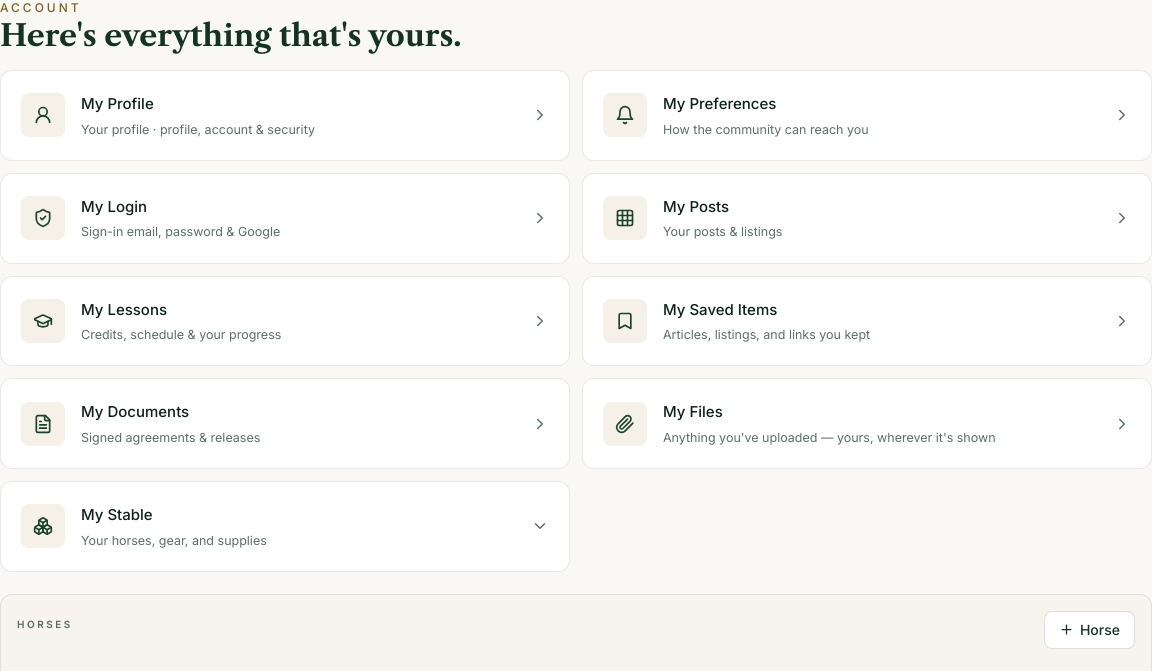
it: My Stable "+ Horse" wiring › shows "+ Horse" next to the Horses section and opens the horse-intake modal
Click the button "Horse".
click(1089, 630)  # box [1044,611,1135,649]
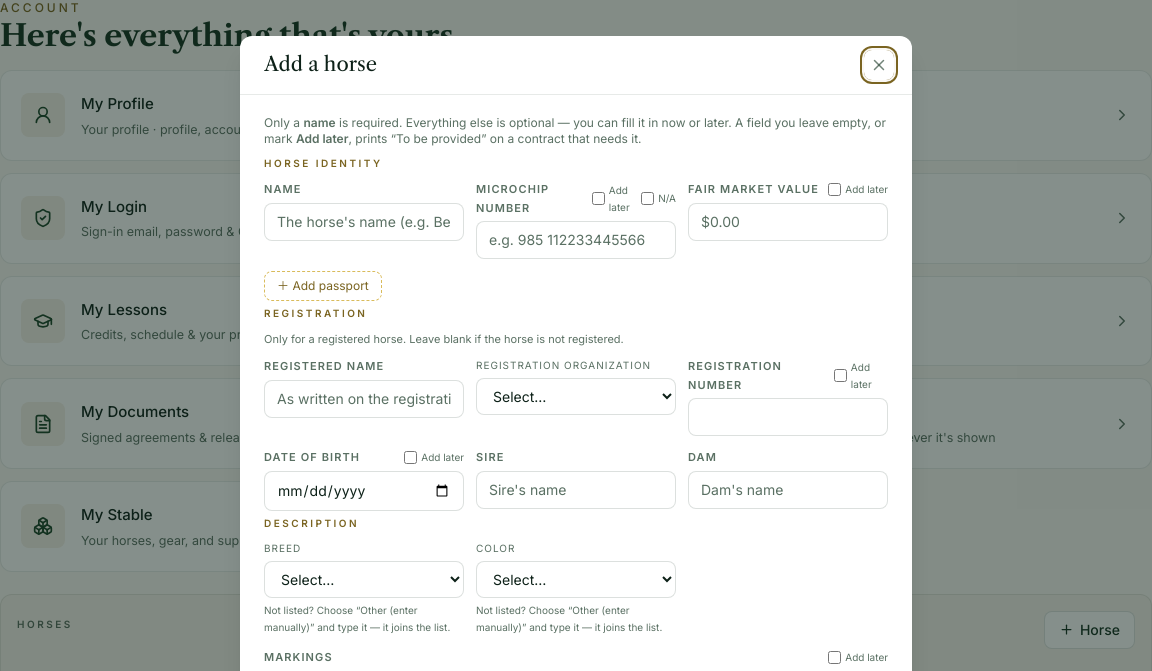
Now the heading "Add a horse" is shown, box [264,50,377,78]
